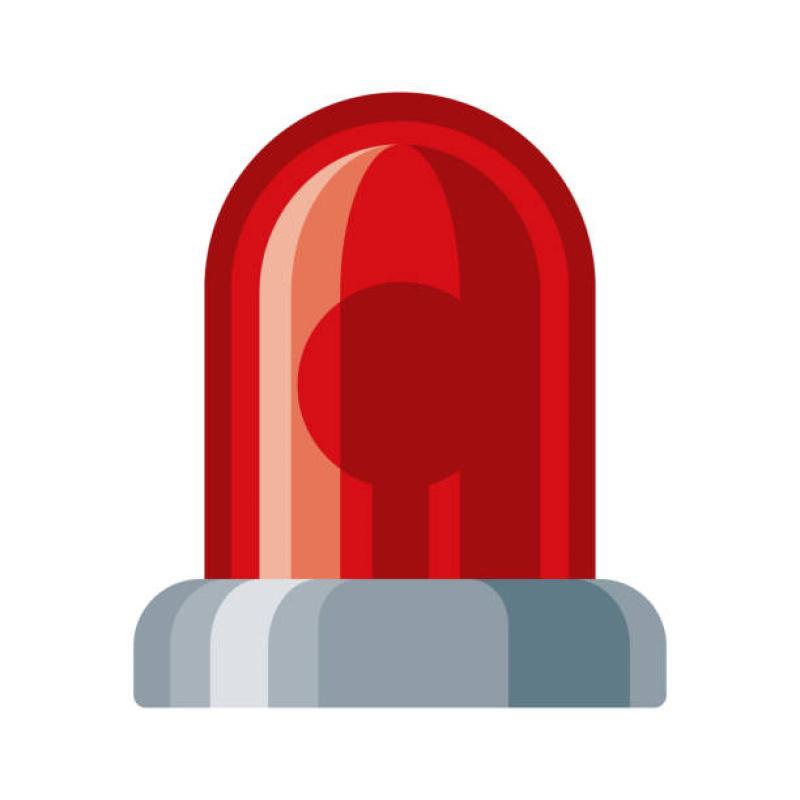AmbulanceSiren: (101, 43, 689, 766)
